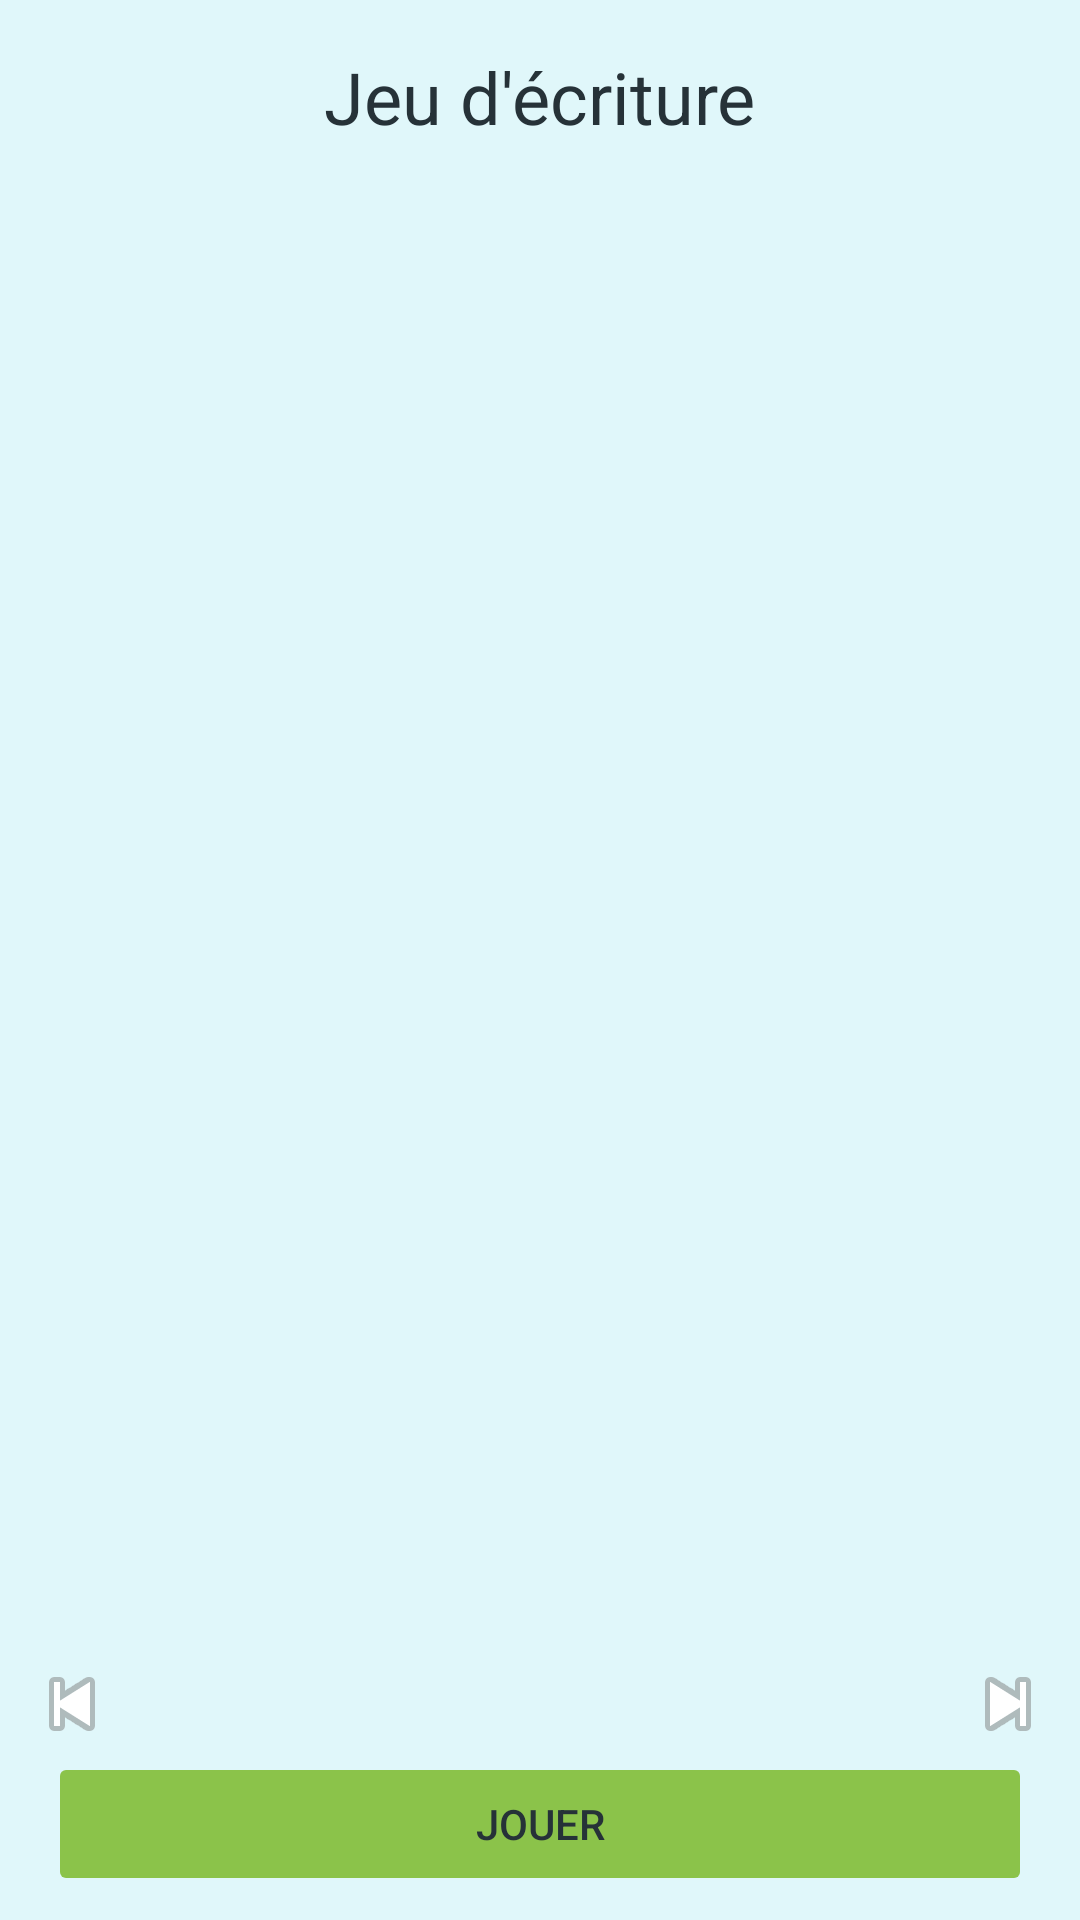

Icon bounding boxes for this 1080 × 1920 phone screenshot, format (x1, y1, x2, y2):
next: (985, 1677, 1031, 1731)
previous: (49, 1677, 95, 1731)
